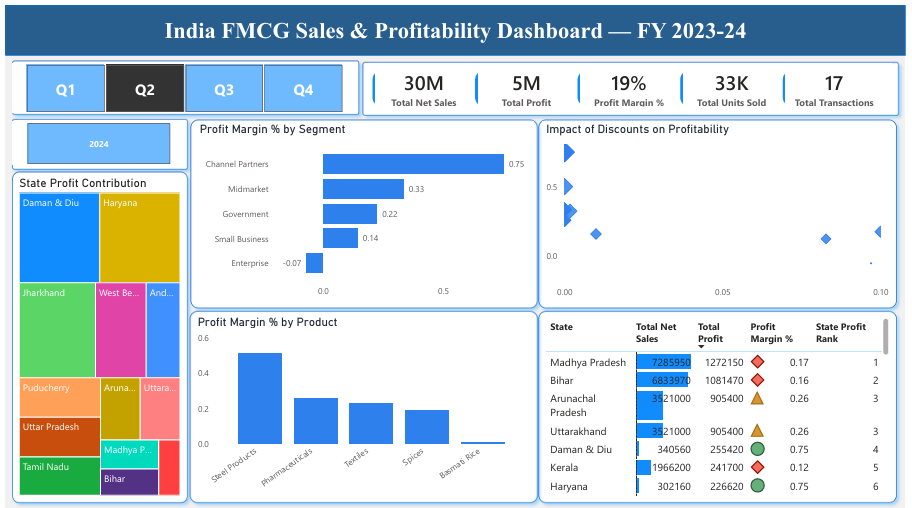

The page's visual inventory and layout, read from the dashboard file:
{"tool":"powerbi","page":{"name":"Executive Summary ","canvas":[1280,720],"ordinal":0},"visuals":[{"type":"shape","box":[499,70.9,781.2,94.5],"z":0},{"type":"shape","box":[0,151.5,268.3,90.3],"z":1000},{"type":"shape","box":[0,226.6,268.3,489.3],"z":2000},{"type":"shape","box":[0,69.5,511.5,94.5],"z":3000},{"type":"shape","box":[749.2,425.3,528.2,290.5],"z":4000},{"type":"shape","box":[749.2,152.9,528.2,286.3],"z":5000},{"type":"shape","box":[254.4,152.9,511.5,286.3],"z":6000},{"type":"shape","title":"India FMCG Sales Dashboard — FY 2023-24","box":[0,0,1280.2,70],"z":7000},{"type":"textbox","box":[0,11.1,1280.2,58.4],"z":8000},{"type":"cardVisual","fields":{"Data":["FactSales.Total Net Sales","FactSales.Total Profit","FactSales.Profit Margin % D","FactSales.Total Units Sold","FactSales.Total Transactions"]},"box":[511.5,82,750.6,70.9],"z":9000},{"type":"slicer","fields":{"Values":["DateTable.Year"]},"box":[9.7,165.4,243.2,61.2],"z":10000},{"type":"slicer","fields":{"Values":["DateTable.Quarter"]},"box":[9,82,489,70.9],"z":11000},{"type":"tableEx","title":"dfv","fields":{"Values":["FactSales.State","FactSales.Total Net Sales","FactSales.Total Profit","FactSales.Profit Margin %","FactSales.State Profit Rank"]},"box":[764.5,439.2,497.6,261.3],"z":12000},{"type":"clusteredBarChart","fields":{"Category":["FactSales.Segment"],"Y":["FactSales.Profit Margin %"]},"box":[271,165.4,480.9,258.5],"z":13000},{"type":"shape","box":[253,425.3,512.9,290.5],"z":14000},{"type":"clusteredColumnChart","fields":{"Category":["FactSales.Product"],"Y":["FactSales.Profit Margin %"]},"box":[268.3,439.2,480.9,261.3],"z":15000},{"type":"treemap","title":"State Profit Contribution","fields":{"Values":["FactSales.Profit Margin %"],"Group":["FactSales.State"]},"box":[13.9,241.9,239.1,458.7],"z":16000},{"type":"scatterChart","title":"Impact of Discounts on Profitability","fields":{"X":["FactSales.Discount Rate %"],"Y":["FactSales.Profit Margin %"],"Category":["FactSales.State"],"Size":["FactSales.Profit Margin %"]},"box":[764.5,165.4,497.6,259.9],"z":17000}]}

Visuals, with their boxes in screenshot pixels (x1, y1, x2, y2), scaled from the page's 1280x720 canvas onto the 912x508 screenshot:
shape: [left=356, top=50, right=911, bottom=117]
shape: [left=0, top=107, right=191, bottom=171]
shape: [left=0, top=160, right=191, bottom=505]
shape: [left=0, top=49, right=364, bottom=116]
shape: [left=534, top=300, right=910, bottom=505]
shape: [left=534, top=108, right=910, bottom=310]
shape: [left=181, top=108, right=546, bottom=310]
"India FMCG Sales Dashboard — FY 2023-24" shape: [left=0, top=0, right=911, bottom=49]
textbox: [left=0, top=8, right=911, bottom=49]
cardVisual - FactSales.Total Net Sales x FactSales.Total Profit: [left=364, top=58, right=899, bottom=108]
slicer - DateTable.Year: [left=7, top=117, right=180, bottom=160]
slicer - DateTable.Quarter: [left=6, top=58, right=355, bottom=108]
"dfv" tableEx: [left=545, top=310, right=899, bottom=494]
clusteredBarChart - FactSales.Segment x FactSales.Profit Margin %: [left=193, top=117, right=536, bottom=299]
shape: [left=180, top=300, right=546, bottom=505]
clusteredColumnChart - FactSales.Product x FactSales.Profit Margin %: [left=191, top=310, right=534, bottom=494]
"State Profit Contribution" treemap: [left=10, top=171, right=180, bottom=494]
"Impact of Discounts on Profitability" scatterChart: [left=545, top=117, right=899, bottom=300]
